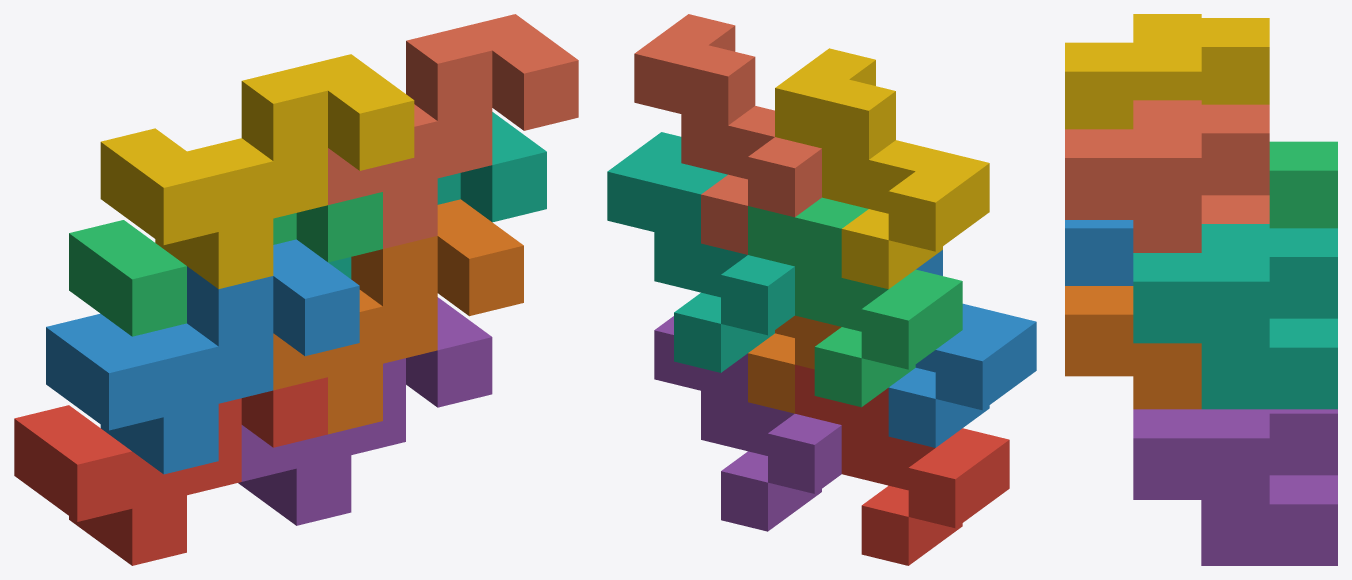
The model's file is tiling.obj.
3 views of the same model, side by side, from view 1: azimuth 30°, elevation 25°; view 2: azimuth 150°, elevation 25°; view 3: azimuth 270°, elevation 25° (orthographic). The views are drawn at different scales.
Visible parts, largest first — view 1: copy_1_domain_4, copy_1_domain_2, copy_1_domain_8, copy_1_domain_1, copy_1_domain_6, copy_1_domain_5, copy_1_domain_3, copy_1_domain_7; view 2: copy_1_domain_4, copy_1_domain_8, copy_1_domain_3, copy_1_domain_7, copy_1_domain_1, copy_1_domain_5, copy_1_domain_2, copy_1_domain_6; view 3: copy_1_domain_7, copy_1_domain_5, copy_1_domain_8, copy_1_domain_4, copy_1_domain_6, copy_1_domain_3, copy_1_domain_2.
Boxes of the visible parts, x1,y1,x2,y2 form: copy_1_domain_4: [100, 54, 414, 289]; copy_1_domain_2: [46, 239, 359, 474]; copy_1_domain_8: [328, 14, 578, 248]; copy_1_domain_1: [14, 377, 327, 565]; copy_1_domain_6: [273, 199, 523, 434]; copy_1_domain_5: [238, 297, 492, 525]; copy_1_domain_3: [69, 192, 382, 336]; copy_1_domain_7: [328, 112, 546, 278]; copy_1_domain_4: [775, 48, 989, 289]; copy_1_domain_8: [634, 14, 821, 254]; copy_1_domain_3: [748, 197, 962, 407]; copy_1_domain_7: [607, 132, 794, 372]; copy_1_domain_1: [795, 364, 1009, 565]; copy_1_domain_5: [654, 316, 841, 531]; copy_1_domain_2: [888, 250, 1036, 447]; copy_1_domain_6: [748, 315, 841, 413]; copy_1_domain_7: [1133, 224, 1337, 409]; copy_1_domain_5: [1133, 409, 1337, 565]; copy_1_domain_8: [1065, 100, 1269, 252]; copy_1_domain_4: [1065, 14, 1269, 129]; copy_1_domain_6: [1065, 286, 1201, 409]; copy_1_domain_3: [1269, 141, 1337, 228]; copy_1_domain_2: [1065, 220, 1133, 285].
Bounding box in the file's own units: 8 × 8 × 4.
